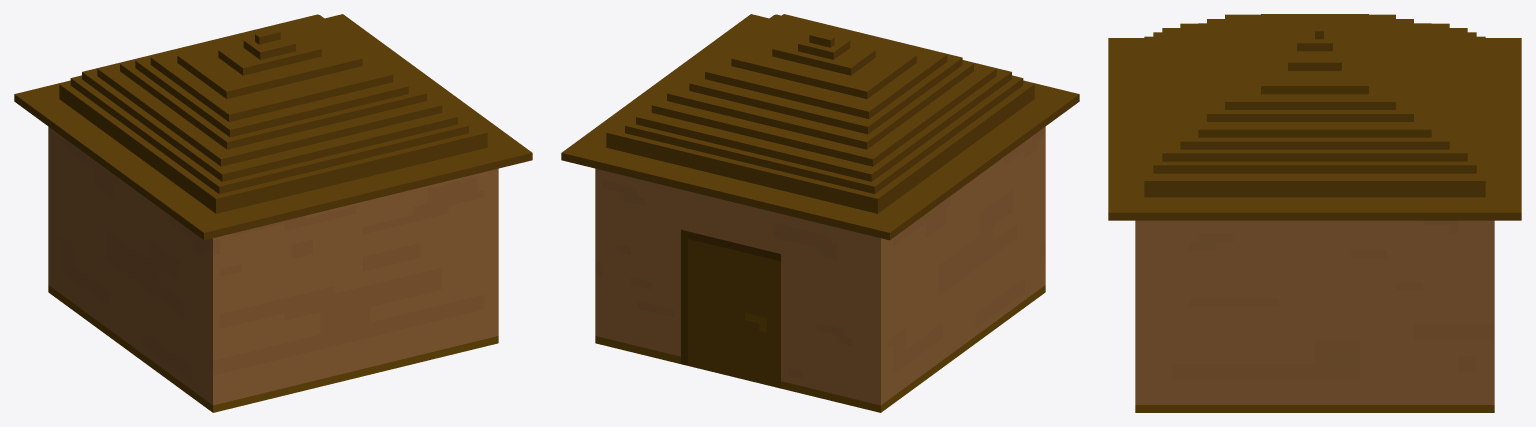
Rendered from house.obj.
3 views of the same model, side by side, from view 1: azimuth 30°, elevation 25°; view 2: azimuth 150°, elevation 25°; view 3: azimuth 270°, elevation 25° (orthographic). The views are drawn at different scales.
Size of the model in its own units: 4.6 by 3.8 by 4.6.
Materials: 1 (1 with a texture image).
